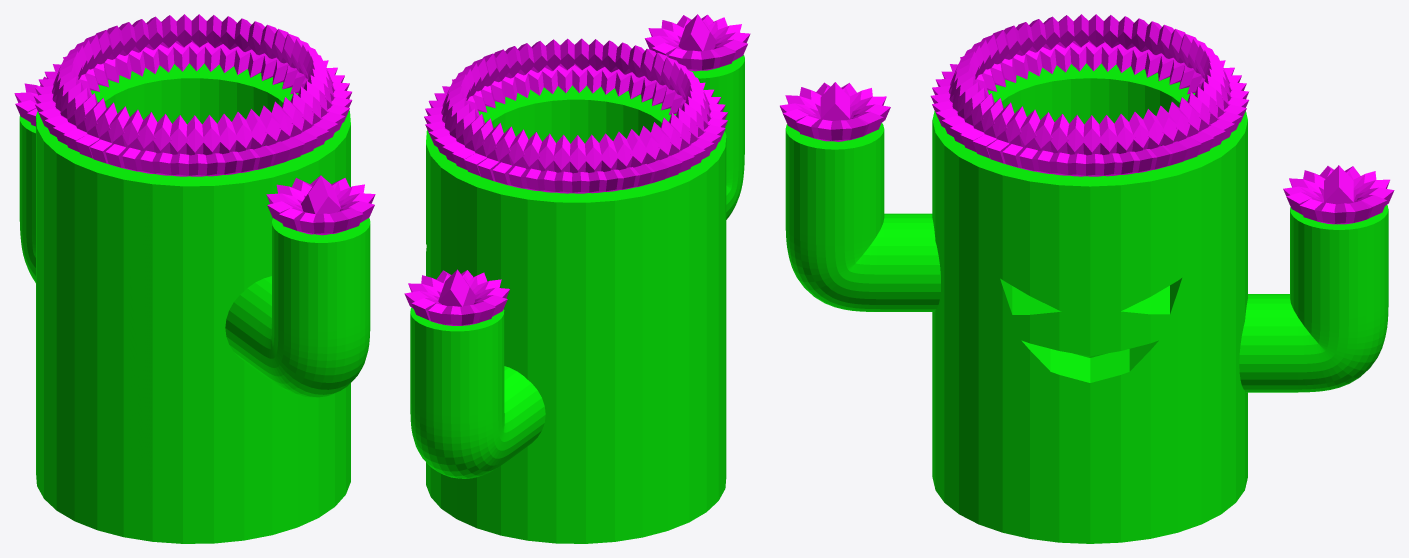
Rendered from Kaktus.glb.
3 views of the same model, side by side, from view 1: azimuth 30°, elevation 25°; view 2: azimuth 150°, elevation 25°; view 3: azimuth 270°, elevation 25° (orthographic). The views are drawn at different scales.
Parts seen in each view (by area): view 1: Kaktus, Kaktusblütenkrone, Kaktusarm L, Kaktusblüte L, Kaktusarm R, Kaktusblüte R; view 2: Kaktus, Kaktusblütenkrone, Kaktusarm R, Kaktusblüte R, Kaktusblüte L, Kaktusarm L; view 3: Kaktus, Kaktusblütenkrone, Kaktusarm L, Kaktusarm R, Kaktusblüte L, Kaktusblüte R.
Part boxes in pixels (x1,y1,x2,y2): Kaktus: [36, 63, 350, 543]; Kaktusblütenkrone: [34, 14, 352, 176]; Kaktusarm L: [225, 218, 370, 397]; Kaktusblüte L: [266, 175, 375, 235]; Kaktusarm R: [19, 115, 35, 282]; Kaktusblüte R: [14, 76, 46, 126]; Kaktus: [426, 85, 726, 543]; Kaktusblütenkrone: [424, 38, 727, 193]; Kaktusarm R: [410, 307, 545, 478]; Kaktusblüte R: [404, 269, 509, 325]; Kaktusblüte L: [645, 14, 750, 71]; Kaktusarm L: [689, 54, 744, 219]; Kaktus: [932, 63, 1247, 543]; Kaktusblütenkrone: [930, 14, 1248, 176]; Kaktusarm L: [785, 123, 940, 311]; Kaktusarm R: [1239, 205, 1388, 392]; Kaktusblüte L: [780, 82, 890, 141]; Kaktusblüte R: [1283, 165, 1394, 224].
Bounding box in the file's own units: 0.1616 × 0.231 × 0.3119.
